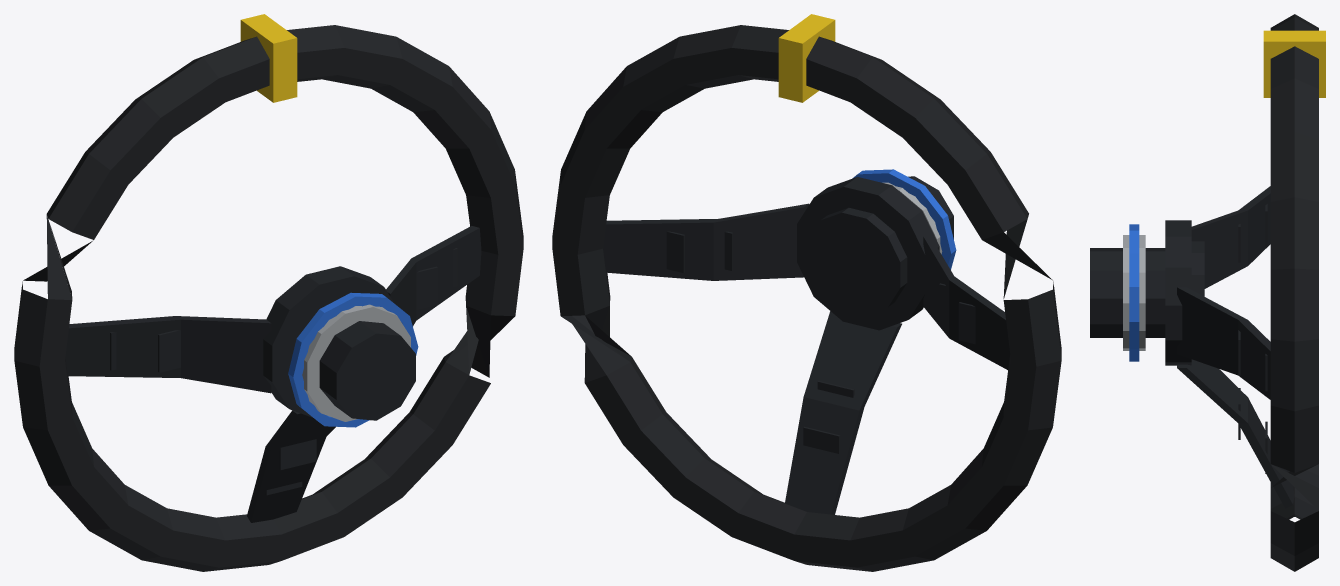
File: hana_roadster.glb
3 renders of one model, left to right at view 1: azimuth 30°, elevation 25°; view 2: azimuth 150°, elevation 25°; view 3: azimuth 270°, elevation 25°, orthographic. The views are drawn at different scales.
Visible parts, largest first — view 1: model; view 2: model; view 3: model.
Part boxes in pixels (box(x1,y1,x2,y2)): model: box(14, 14, 523, 571); model: box(552, 14, 1061, 571); model: box(1090, 14, 1325, 571).
Bounding box in the file's own units: 0.342 × 0.344 × 0.144.
Materials: 3 (1 with a texture image).
